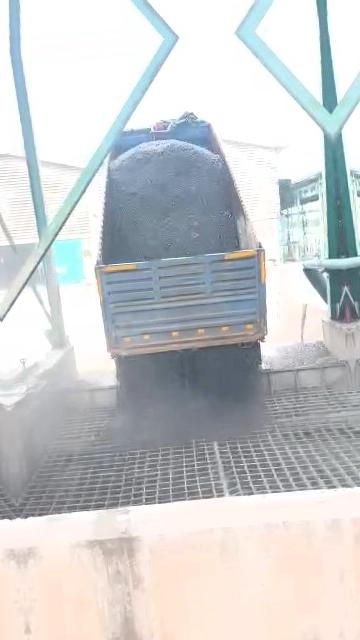gravel: (102, 137, 237, 263), (107, 347, 265, 448), (263, 341, 339, 370)
